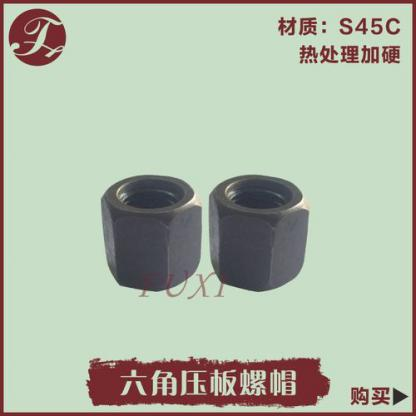FOD: (206, 169, 311, 294), (99, 171, 202, 296)
